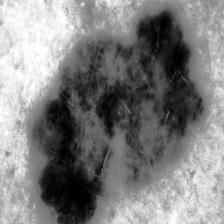Benign Marking or Mole: (31, 5, 209, 224)
